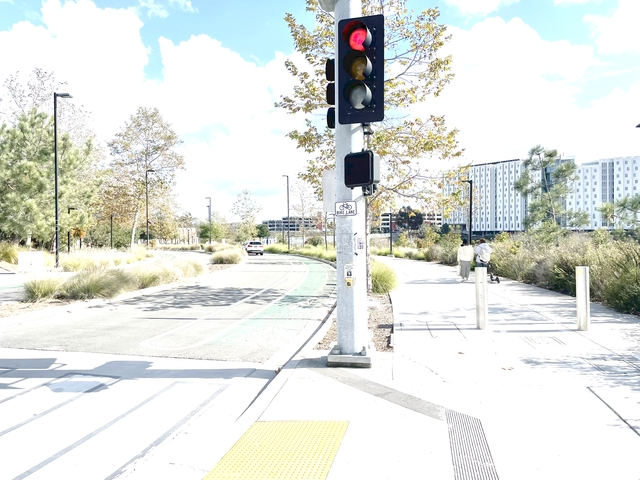Car: (243, 241, 265, 257)
